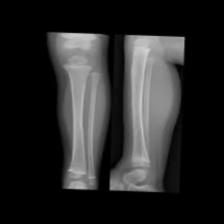impacted-fracture: (42, 32, 190, 192)
